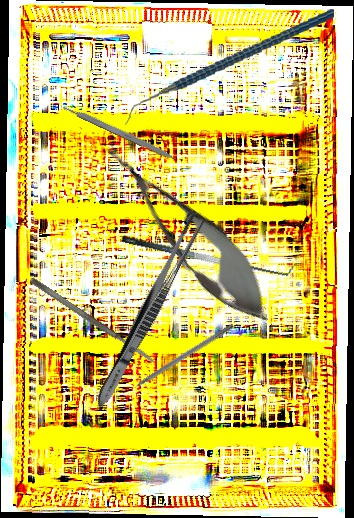Chopper: (115, 8, 344, 127)
Dressing Forceps: (91, 210, 207, 411)
Hook Surgical: (120, 321, 235, 398)
Micro Scissor: (85, 126, 290, 339)
Scalpel Handle: (62, 102, 177, 162)
Spatula Surgical: (28, 275, 158, 367), (120, 221, 297, 285)
